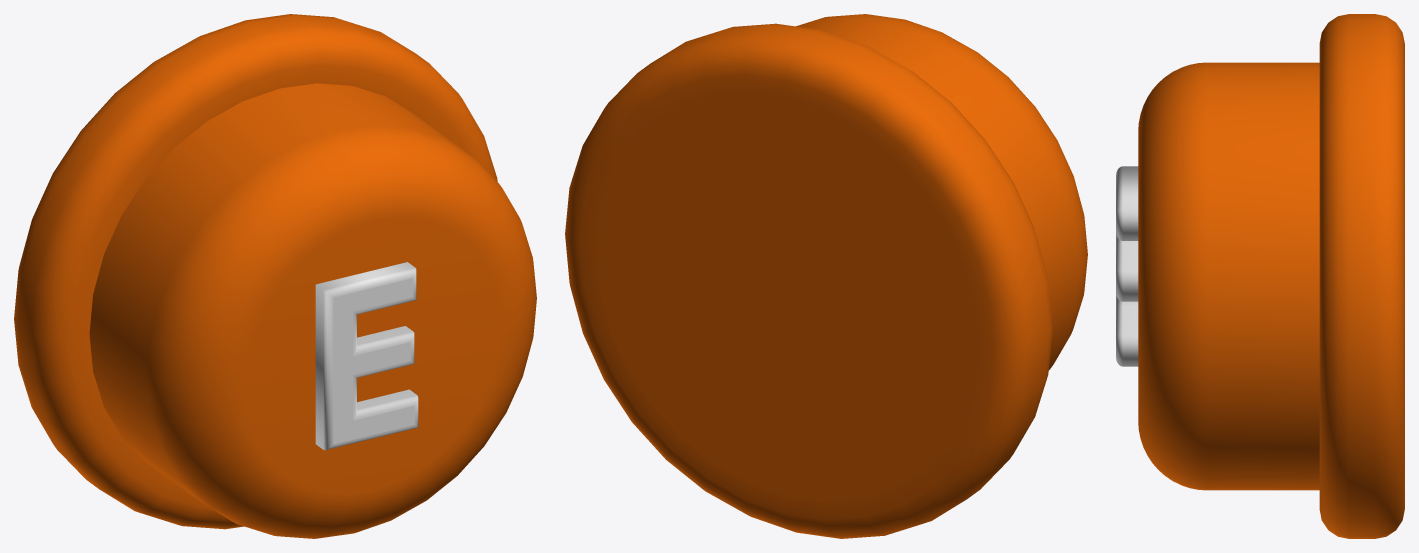
The picture shows the model from 3 angles, left to right: view 1: azimuth 30°, elevation 25°; view 2: azimuth 150°, elevation 25°; view 3: azimuth 270°, elevation 25°; orthographic projection. The views are drawn at different scales.
Parts seen in each view (by area): view 1: Cylinder.012, Text.035; view 2: Cylinder.012; view 3: Cylinder.012, Text.035.
Boxes of the visible parts, x1,y1,x2,y2 form: Cylinder.012: (14, 14, 536, 538); Text.035: (315, 262, 418, 450); Cylinder.012: (565, 14, 1087, 538); Cylinder.012: (1138, 14, 1404, 538); Text.035: (1116, 166, 1138, 366).
Size of the model in its own units: 7.3 by 7.3 by 4.01.
